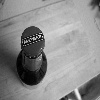beer: (14, 25, 54, 96)
